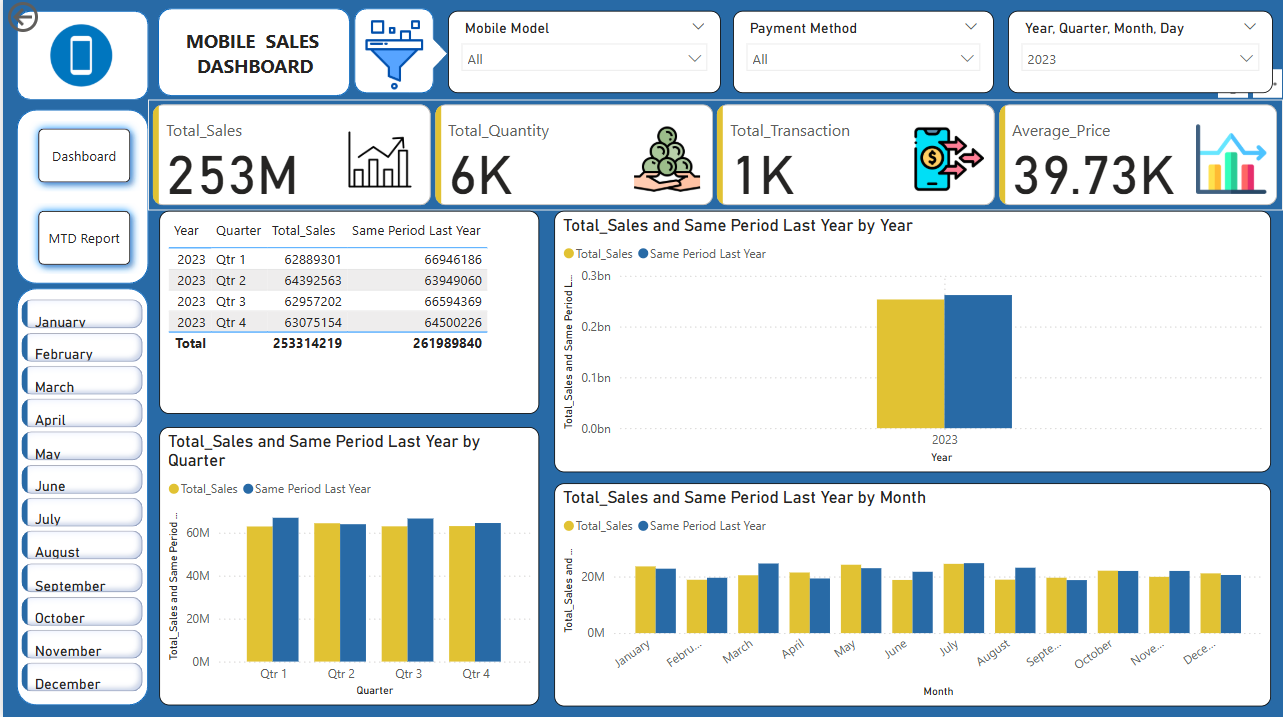

The dashboard page shown, as its layout file describes it:
{"tool":"powerbi","page":{"name":"Same Period Last Year","canvas":[1280,720],"ordinal":2},"visuals":[{"type":"shape","box":[13.7,13.7,131.7,89.2],"z":0},{"type":"image","box":[26.1,20.6,104.3,76.8],"z":1000},{"type":"shape","box":[13.7,112.5,131.7,174.3],"z":2000},{"type":"cardVisual","fields":{"Data":["Sales_Data.Total_Sales","Sales_Data.Total_Quantity","Sales_Data.Total_Transaction","Sales_Data.Average_Price"]},"box":[145.5,102.9,1134.8,111.1],"z":3000},{"type":"slicer","fields":{"Values":["Sales_Data.Mobile Model"]},"box":[444.6,13.7,273.1,82.3],"z":4000},{"type":"slicer","fields":{"Values":["Sales_Data.Payment Method"]},"box":[730,13.7,260.7,82.3],"z":5000},{"type":"slicer","fields":{"Values":["Custom_Calendar.Date.Variation.Date Hierarchy.Year","Custom_Calendar.Date.Variation.Date Hierarchy.Quarter","Custom_Calendar.Date.Variation.Date Hierarchy.Month","Custom_Calendar.Date.Variation.Date Hierarchy.Day"]},"box":[1004.5,13.7,264.8,82.3],"z":6000},{"type":"shape","box":[351.3,11,79.6,85.1],"z":7000},{"type":"shape","box":[369.1,17.8,75.5,78.2],"z":8000},{"type":"image","box":[323.8,17.8,134.5,81],"z":9000},{"type":"shape","box":[155.1,11,192.1,87.8],"z":10000},{"type":"textbox","box":[166,26.1,171.5,60.4],"z":11000},{"type":"actionButton","box":[0,0,100,40],"z":12000},{"type":"shape","box":[14.3,291.4,131.4,417.1],"z":13000},{"type":"slicer","fields":{"Values":["Custom_Calendar.Date.Variation.Date Hierarchy.Month"]},"box":[14.5,296.8,130.3,404.2],"z":14000},{"type":"tableEx","fields":{"Values":["Custom_Calendar.Date.Variation.Date Hierarchy.Year","Custom_Calendar.Date.Variation.Date Hierarchy.Quarter","Sales_Data.Total_Sales","Sales_Data.Same Period Last Year"]},"box":[155.7,214.3,380,202.9],"z":15000},{"type":"lineClusteredColumnComboChart","fields":{"Y":["Sales_Data.Total_Sales","Sales_Data.Same Period Last Year"],"Category":["Custom_Calendar.Date.Variation.Date Hierarchy.Year","Custom_Calendar.Date.Variation.Date Hierarchy.Quarter","Custom_Calendar.Date.Variation.Date Hierarchy.Month","Custom_Calendar.Date.Variation.Date Hierarchy.Day"]},"box":[551.4,214.3,717.1,261.4],"z":16000},{"type":"lineClusteredColumnComboChart","fields":{"Y":["Sales_Data.Total_Sales","Sales_Data.Same Period Last Year"],"Category":["Custom_Calendar.Date.Variation.Date Hierarchy.Month"]},"box":[551.4,485.7,717.1,222.9],"z":17000},{"type":"lineClusteredColumnComboChart","fields":{"Y":["Sales_Data.Total_Sales","Sales_Data.Same Period Last Year"],"Category":["Custom_Calendar.Date.Variation.Date Hierarchy.Quarter"]},"box":[155.7,430,380,278.6],"z":18000},{"type":"pageNavigator","box":[25.7,122.9,110,154.3],"z":19000}]}

Visuals, with their boxes in screenshot pixels (x1, y1, x2, y2), scaled from the page's 1280x720 canvas onto the 1283x717 screenshot:
shape: [left=14, top=14, right=146, bottom=102]
image: [left=26, top=21, right=131, bottom=97]
shape: [left=14, top=112, right=146, bottom=286]
cardVisual - Sales_Data.Total_Sales x Sales_Data.Total_Quantity: [left=146, top=102, right=1282, bottom=213]
slicer - Sales_Data.Mobile Model: [left=446, top=14, right=719, bottom=96]
slicer - Sales_Data.Payment Method: [left=732, top=14, right=993, bottom=96]
slicer - Custom_Calendar.Date.Variation.Date Hierarchy.Year x Custom_Calendar.Date.Variation.Date Hierarchy.Quarter: [left=1007, top=14, right=1272, bottom=96]
shape: [left=352, top=11, right=432, bottom=96]
shape: [left=370, top=18, right=446, bottom=96]
image: [left=325, top=18, right=459, bottom=98]
shape: [left=155, top=11, right=348, bottom=98]
textbox: [left=166, top=26, right=338, bottom=86]
actionButton: [left=0, top=0, right=100, bottom=40]
shape: [left=14, top=290, right=146, bottom=706]
slicer - Custom_Calendar.Date.Variation.Date Hierarchy.Month: [left=15, top=296, right=145, bottom=698]
tableEx - Custom_Calendar.Date.Variation.Date Hierarchy.Year x Custom_Calendar.Date.Variation.Date Hierarchy.Quarter: [left=156, top=213, right=537, bottom=415]
lineClusteredColumnComboChart - Sales_Data.Total_Sales x Sales_Data.Same Period Last Year: [left=553, top=213, right=1271, bottom=474]
lineClusteredColumnComboChart - Sales_Data.Total_Sales x Sales_Data.Same Period Last Year: [left=553, top=484, right=1271, bottom=706]
lineClusteredColumnComboChart - Sales_Data.Total_Sales x Sales_Data.Same Period Last Year: [left=156, top=428, right=537, bottom=706]
pageNavigator: [left=26, top=122, right=136, bottom=276]
